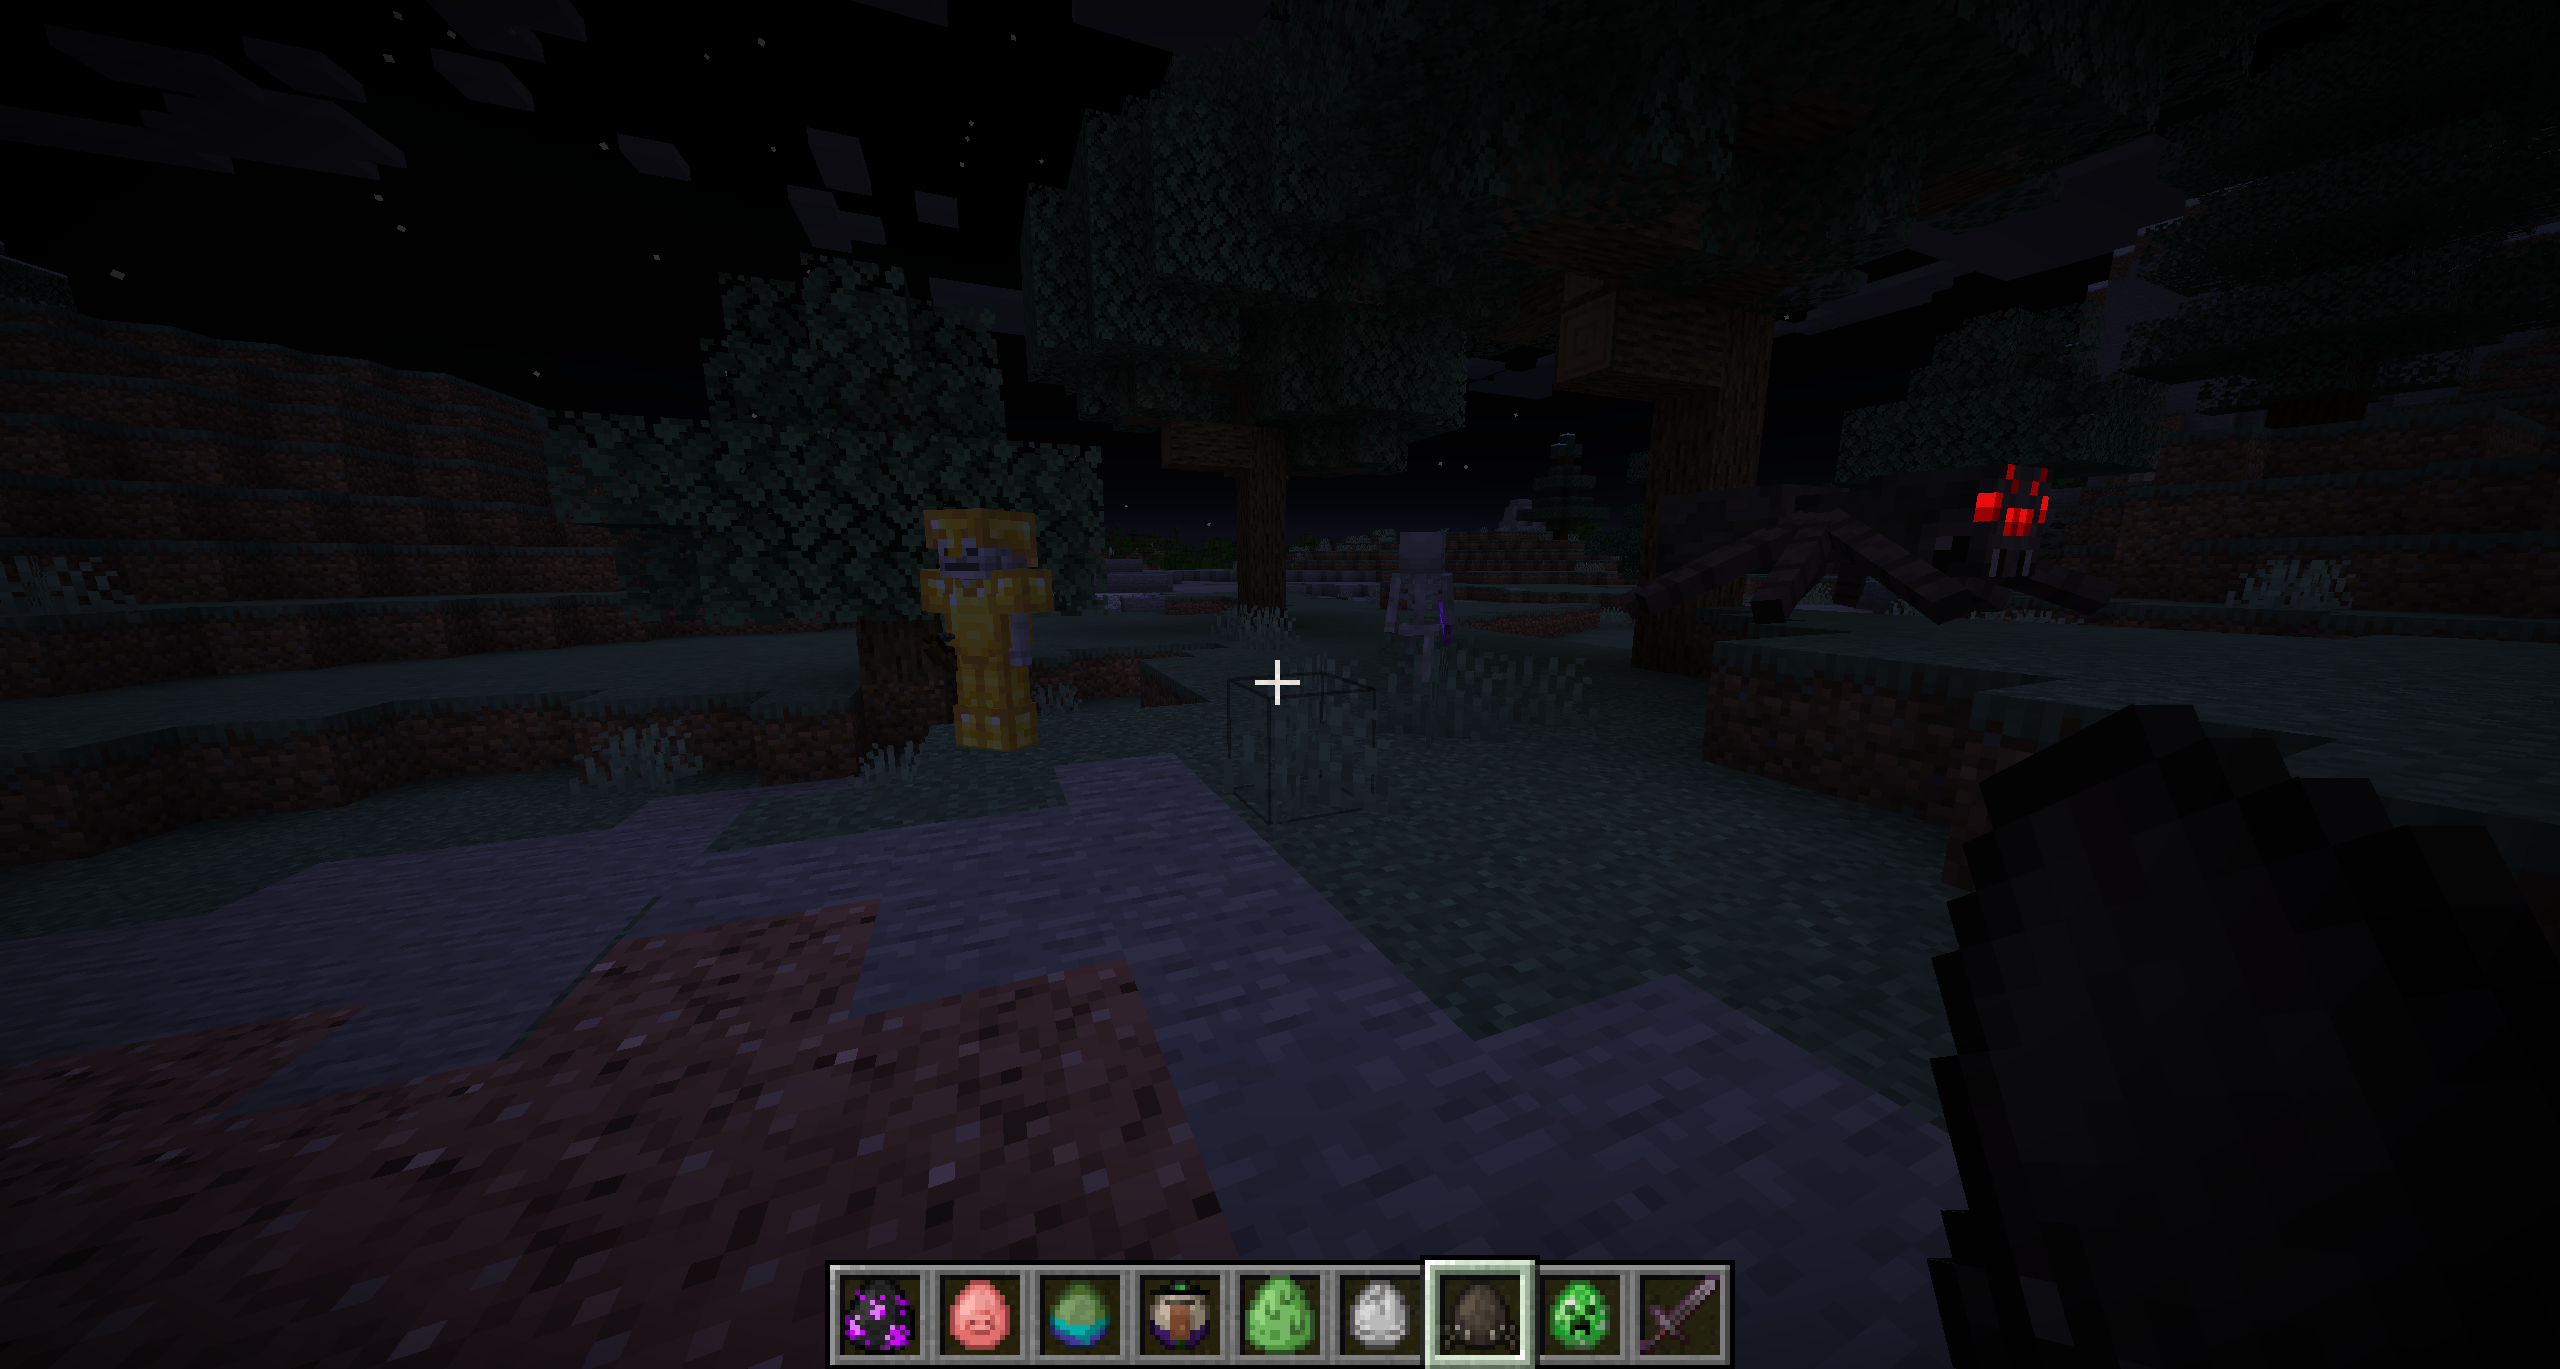araignees: (1622, 452, 2111, 633)
squelettes: (923, 509, 1055, 751), (1383, 528, 1463, 689)
